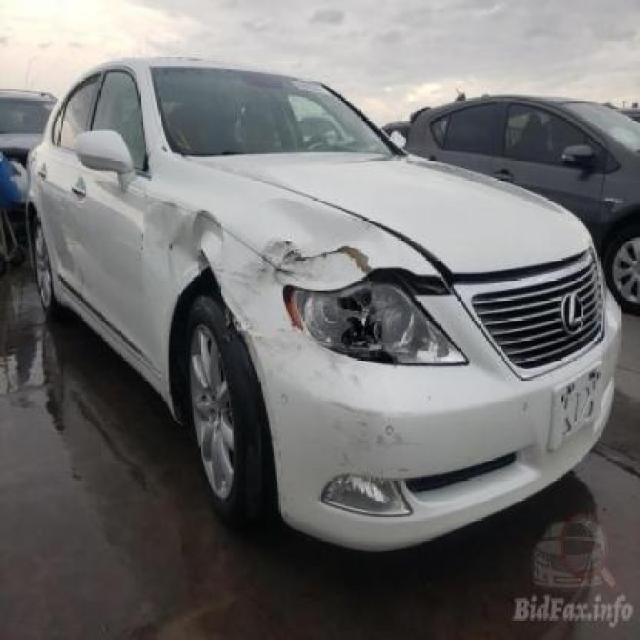minor: (368, 418, 405, 446), (329, 357, 365, 380), (280, 395, 286, 405)
moderate: (132, 197, 371, 331), (265, 331, 312, 362)
